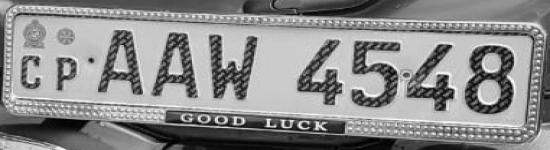4: (405, 38, 460, 119)
5: (347, 35, 404, 111)
8: (462, 42, 520, 125)
A: (201, 28, 261, 106), (292, 32, 347, 109), (93, 25, 149, 99), (148, 30, 202, 102)
C: (16, 53, 46, 89)
P: (51, 54, 82, 92)
